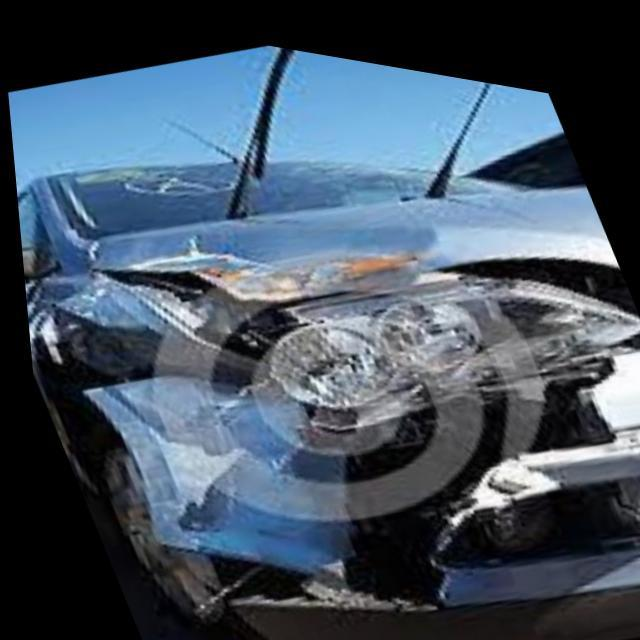dislocated part: (142, 311, 640, 590), (88, 241, 309, 341)
lamp broken: (250, 262, 638, 408)
